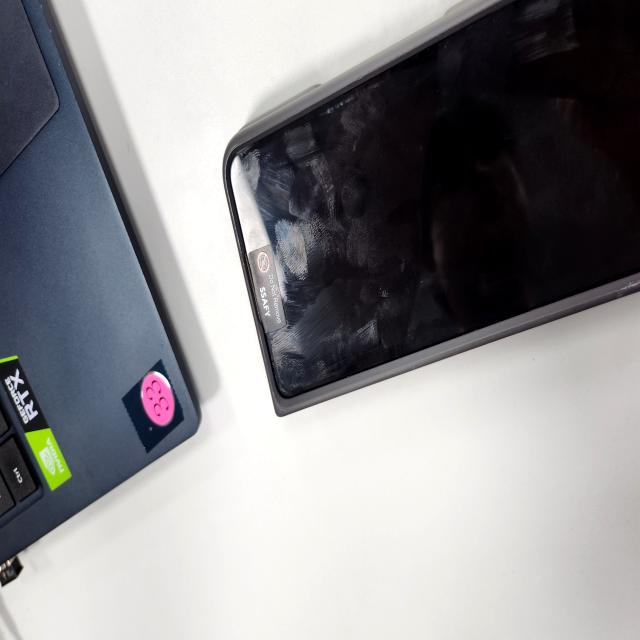phone: (222, 0, 640, 421)
sticker: (246, 239, 285, 338)
